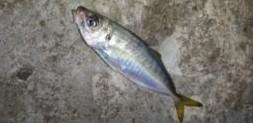fish: (71, 5, 204, 122)
